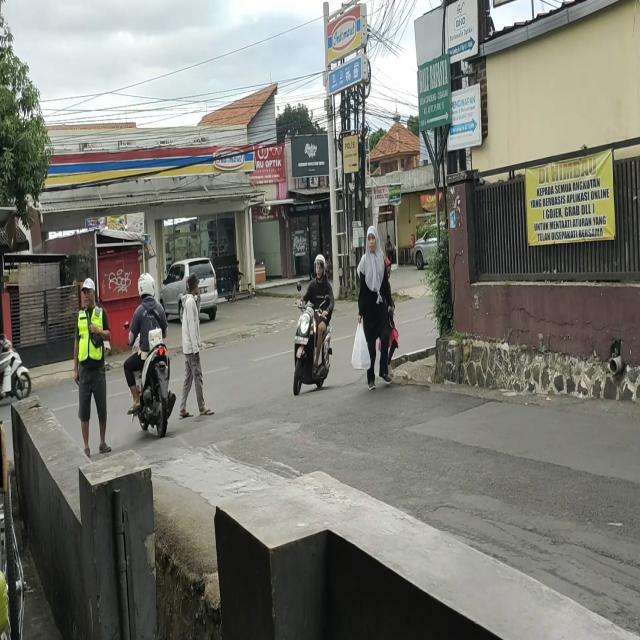helmet: (139, 272, 154, 298), (313, 256, 326, 276)
